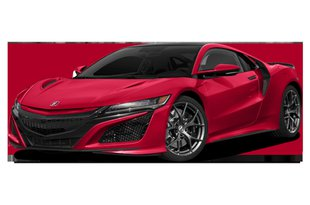car: (13, 41, 300, 162)
